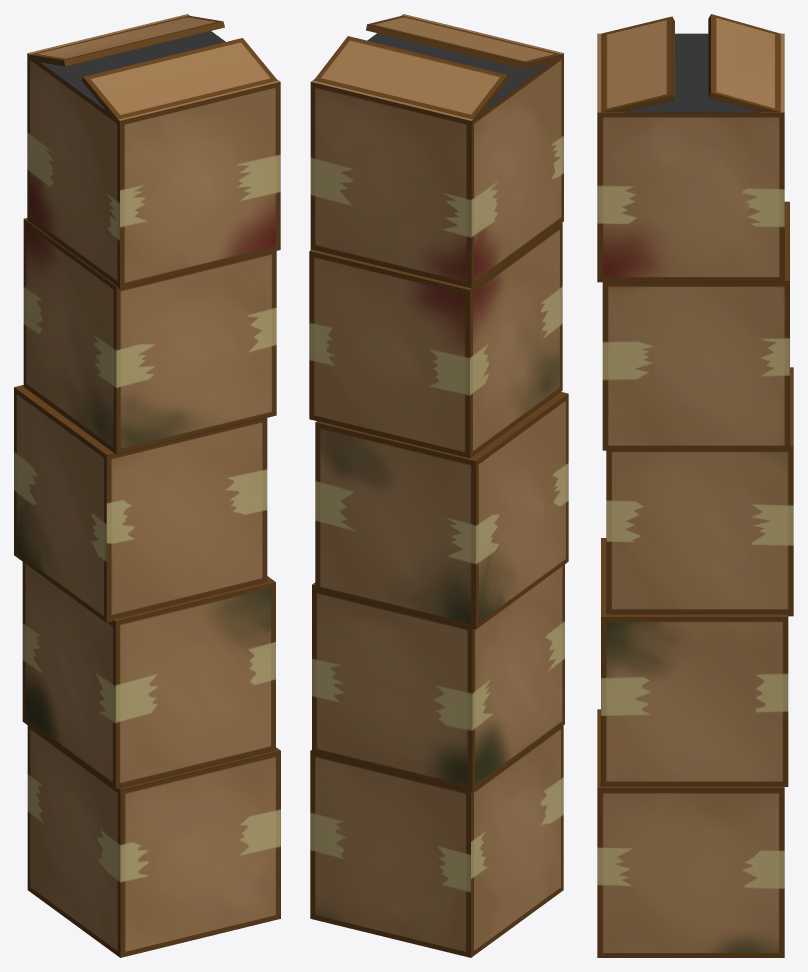
File: boxstack1.fbx
3 renders of one model, left to right at view 1: azimuth 30°, elevation 25°; view 2: azimuth 150°, elevation 25°; view 3: azimuth 270°, elevation 25°, orthographic.
Parts seen in each view (by area): view 1: pCube10; view 2: pCube10; view 3: pCube10.
Boxes of the visible parts, bbox=[...] form: pCube10: bbox=[14, 14, 280, 957]; pCube10: bbox=[309, 14, 568, 957]; pCube10: bbox=[597, 14, 793, 957].
Bounding box in the file's own units: 4.45 × 21.47 × 4.41.
1 material, 1 textured.
